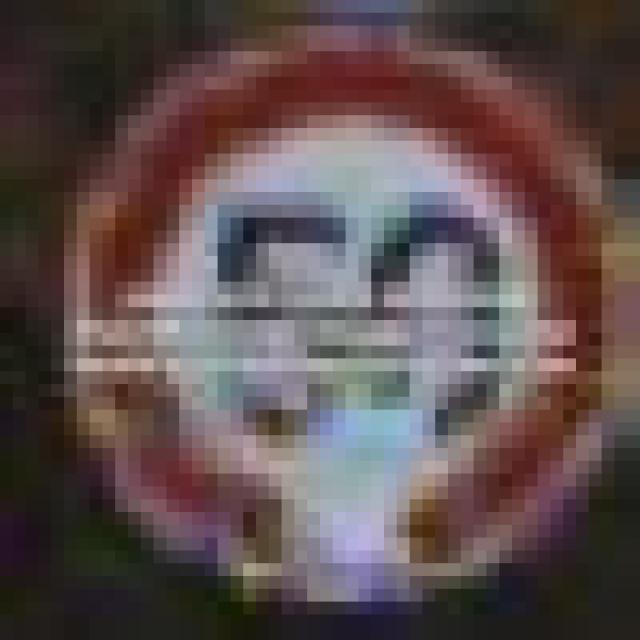speed_limit_30: (51, 38, 602, 589)
